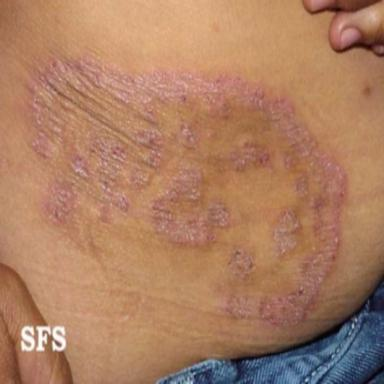Tinea-Corporis: (28, 54, 346, 327), (45, 129, 163, 224), (151, 163, 230, 246), (229, 141, 276, 175), (271, 207, 302, 257), (228, 250, 256, 284), (181, 123, 199, 149)
